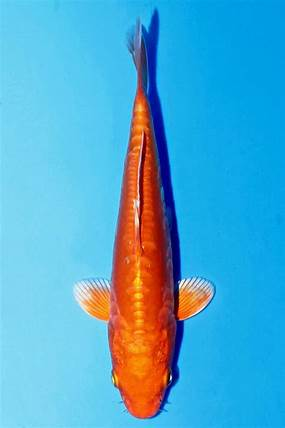red: (72, 17, 215, 418)
